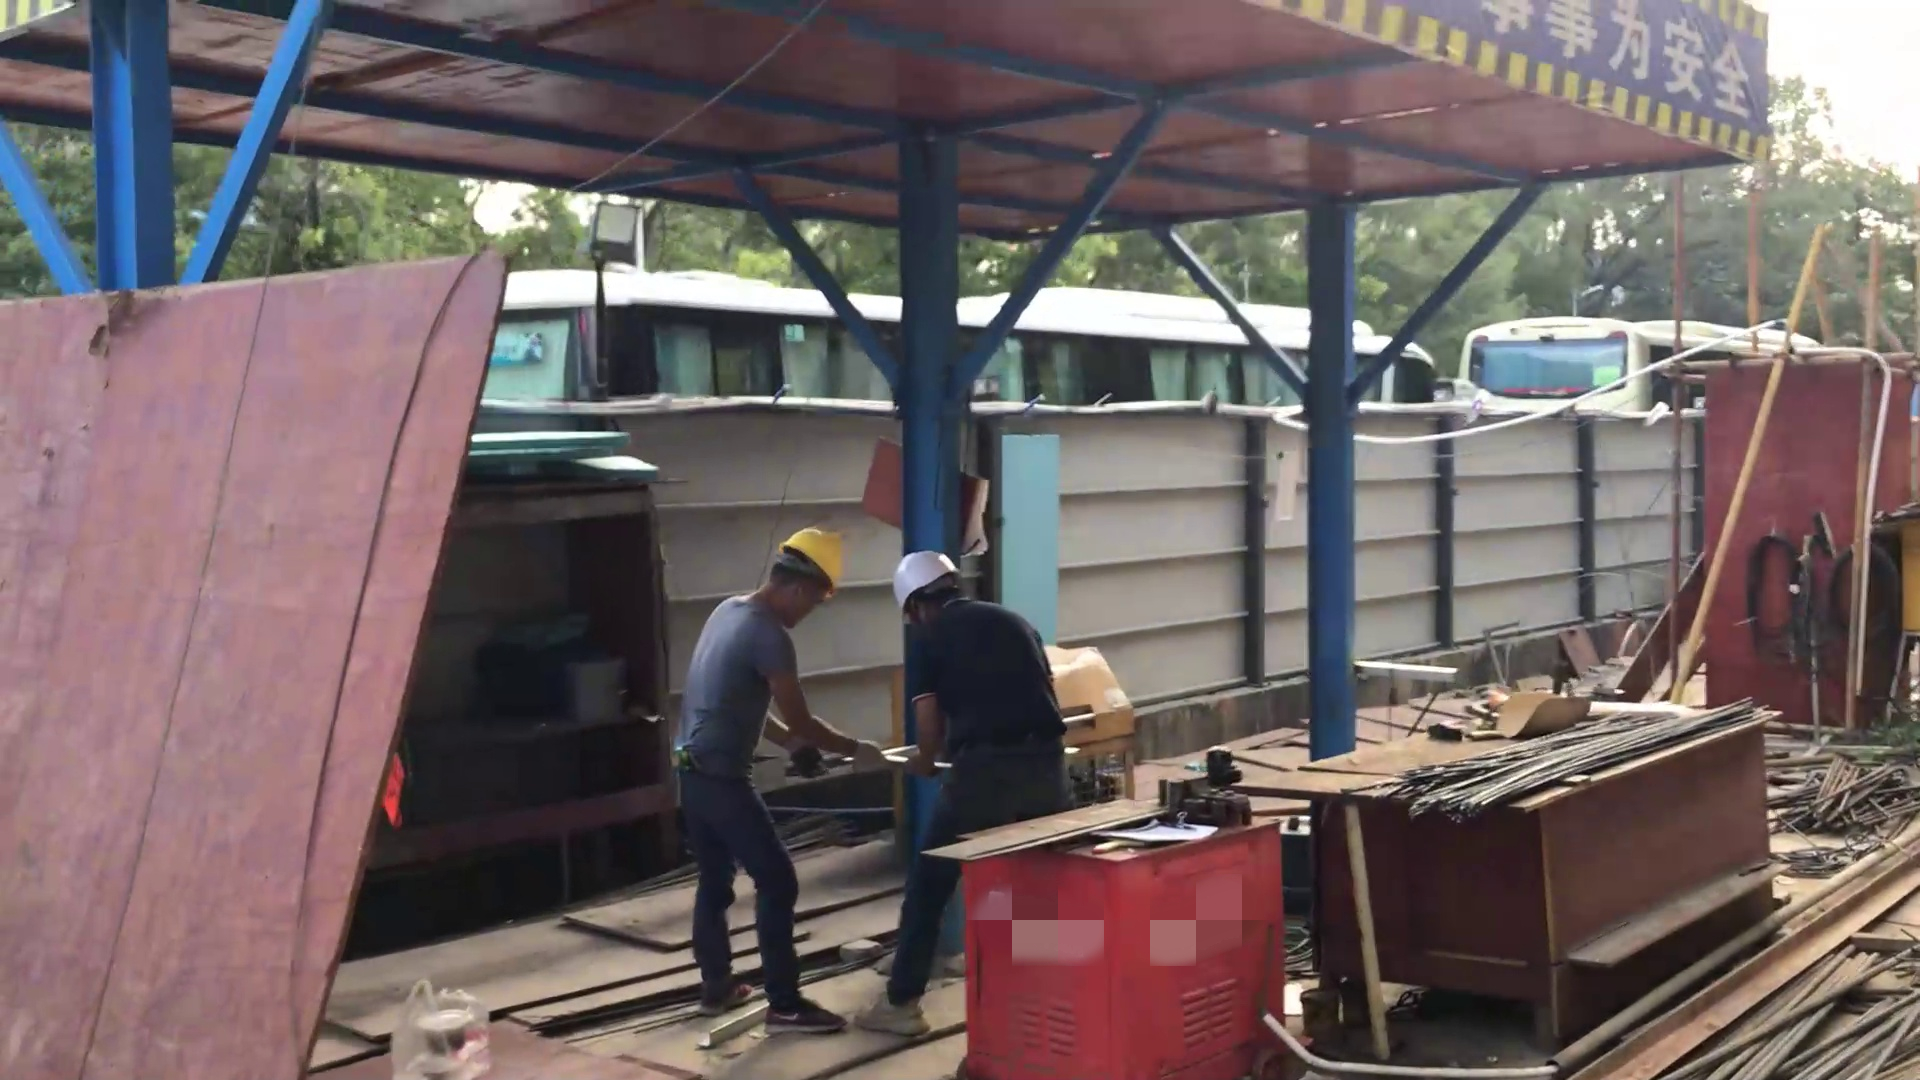helmet: (762, 514, 848, 605), (886, 547, 962, 607)
person: (872, 543, 1096, 1047), (672, 505, 879, 1050)
slogan: (1290, 1, 1781, 174)
